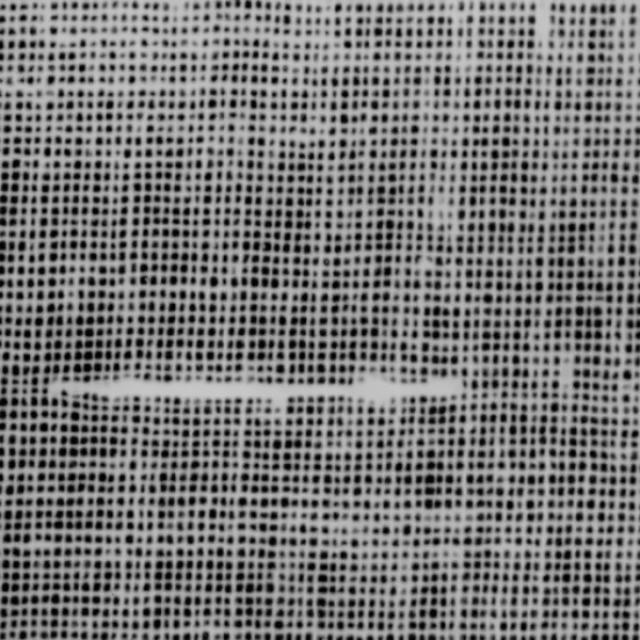Thread_other: (15, 166, 529, 578)
